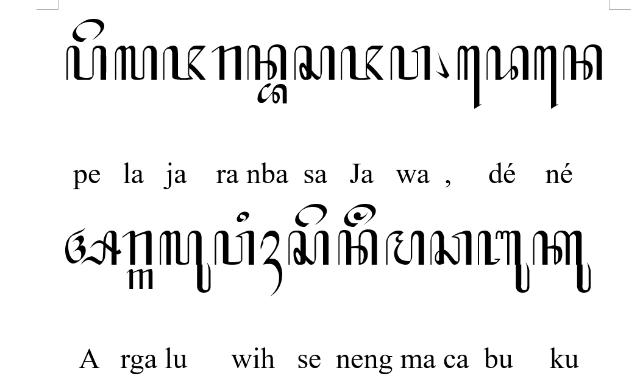A: (65, 227, 122, 265)
_b: (257, 82, 289, 106)
_h1: (260, 230, 282, 296)
bu: (476, 230, 530, 294)
c: (429, 229, 473, 266)
d: (486, 46, 530, 80)
e: (294, 203, 328, 228), (72, 18, 105, 42)
e1: (458, 46, 482, 111), (534, 46, 558, 108)
eng: (343, 204, 377, 228)
g: (126, 268, 154, 292)
i: (236, 211, 250, 223)
j: (162, 45, 208, 81), (340, 45, 384, 81)
kom: (435, 50, 449, 80)
ku: (532, 230, 592, 294)
l: (114, 45, 158, 82)
lu: (158, 230, 212, 294)
m: (386, 230, 424, 266)
n: (337, 229, 378, 266), (562, 45, 602, 82), (247, 45, 287, 81)
p: (66, 45, 108, 82)
r: (122, 230, 154, 266), (212, 46, 242, 80)
s: (293, 45, 335, 82), (288, 230, 330, 266)
w: (214, 230, 256, 266), (390, 45, 430, 81)
